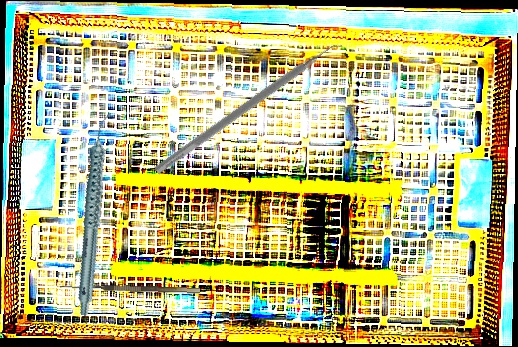Handpiece: (37, 110, 153, 317)
Hook Surgical: (59, 283, 200, 301)
Spatula Surgical: (153, 34, 348, 184)
